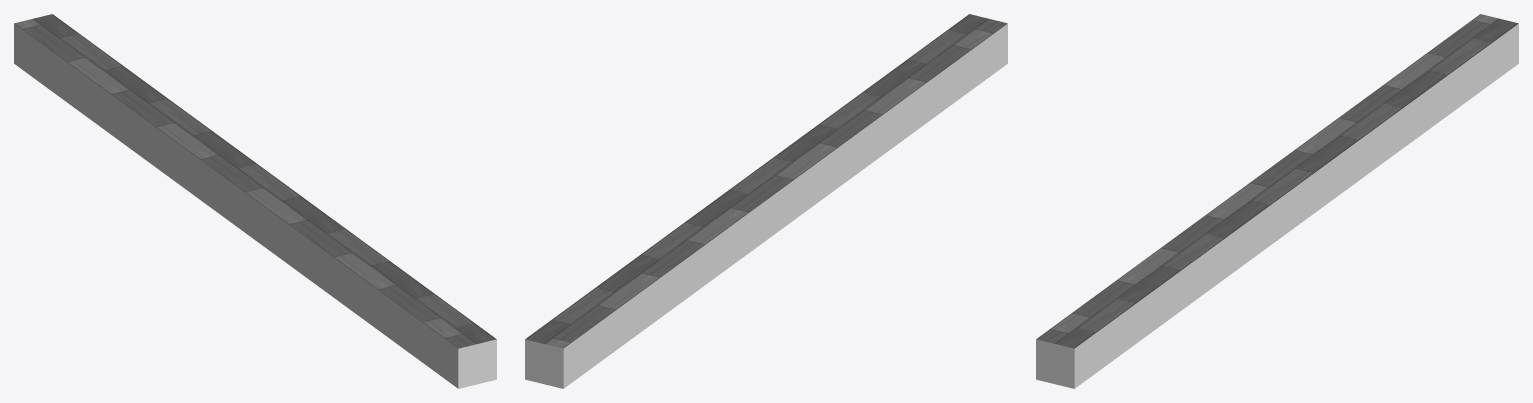
File: Tile_House_Trim_01.obj
The picture shows the model from 3 angles, left to right: view 1: azimuth 30°, elevation 25°; view 2: azimuth 150°, elevation 25°; view 3: azimuth 330°, elevation 25°; orthographic projection.
Parts seen in each view (by area): view 1: Tile_House_Trim_01_mi_HouseInteriorWalls_01, Tile_House_Trim_01_mi_HouseInteriorFloor_01; view 2: Tile_House_Trim_01_mi_HouseInteriorWalls_01, Tile_House_Trim_01_mi_HouseInteriorFloor_01; view 3: Tile_House_Trim_01_mi_HouseInteriorWalls_01, Tile_House_Trim_01_mi_HouseInteriorFloor_01.
Boxes of the visible parts, x1,y1,x2,y2 form: Tile_House_Trim_01_mi_HouseInteriorWalls_01: (14, 23, 496, 388); Tile_House_Trim_01_mi_HouseInteriorFloor_01: (14, 14, 496, 348); Tile_House_Trim_01_mi_HouseInteriorWalls_01: (525, 23, 1007, 388); Tile_House_Trim_01_mi_HouseInteriorFloor_01: (525, 14, 1007, 348); Tile_House_Trim_01_mi_HouseInteriorWalls_01: (1036, 23, 1518, 388); Tile_House_Trim_01_mi_HouseInteriorFloor_01: (1036, 14, 1518, 348).
Bounding box in the file's own units: 0.25 × 0.25 × 5.
2 materials, 1 textured.
